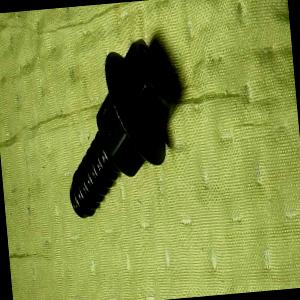parafuso: (55, 36, 183, 221)
